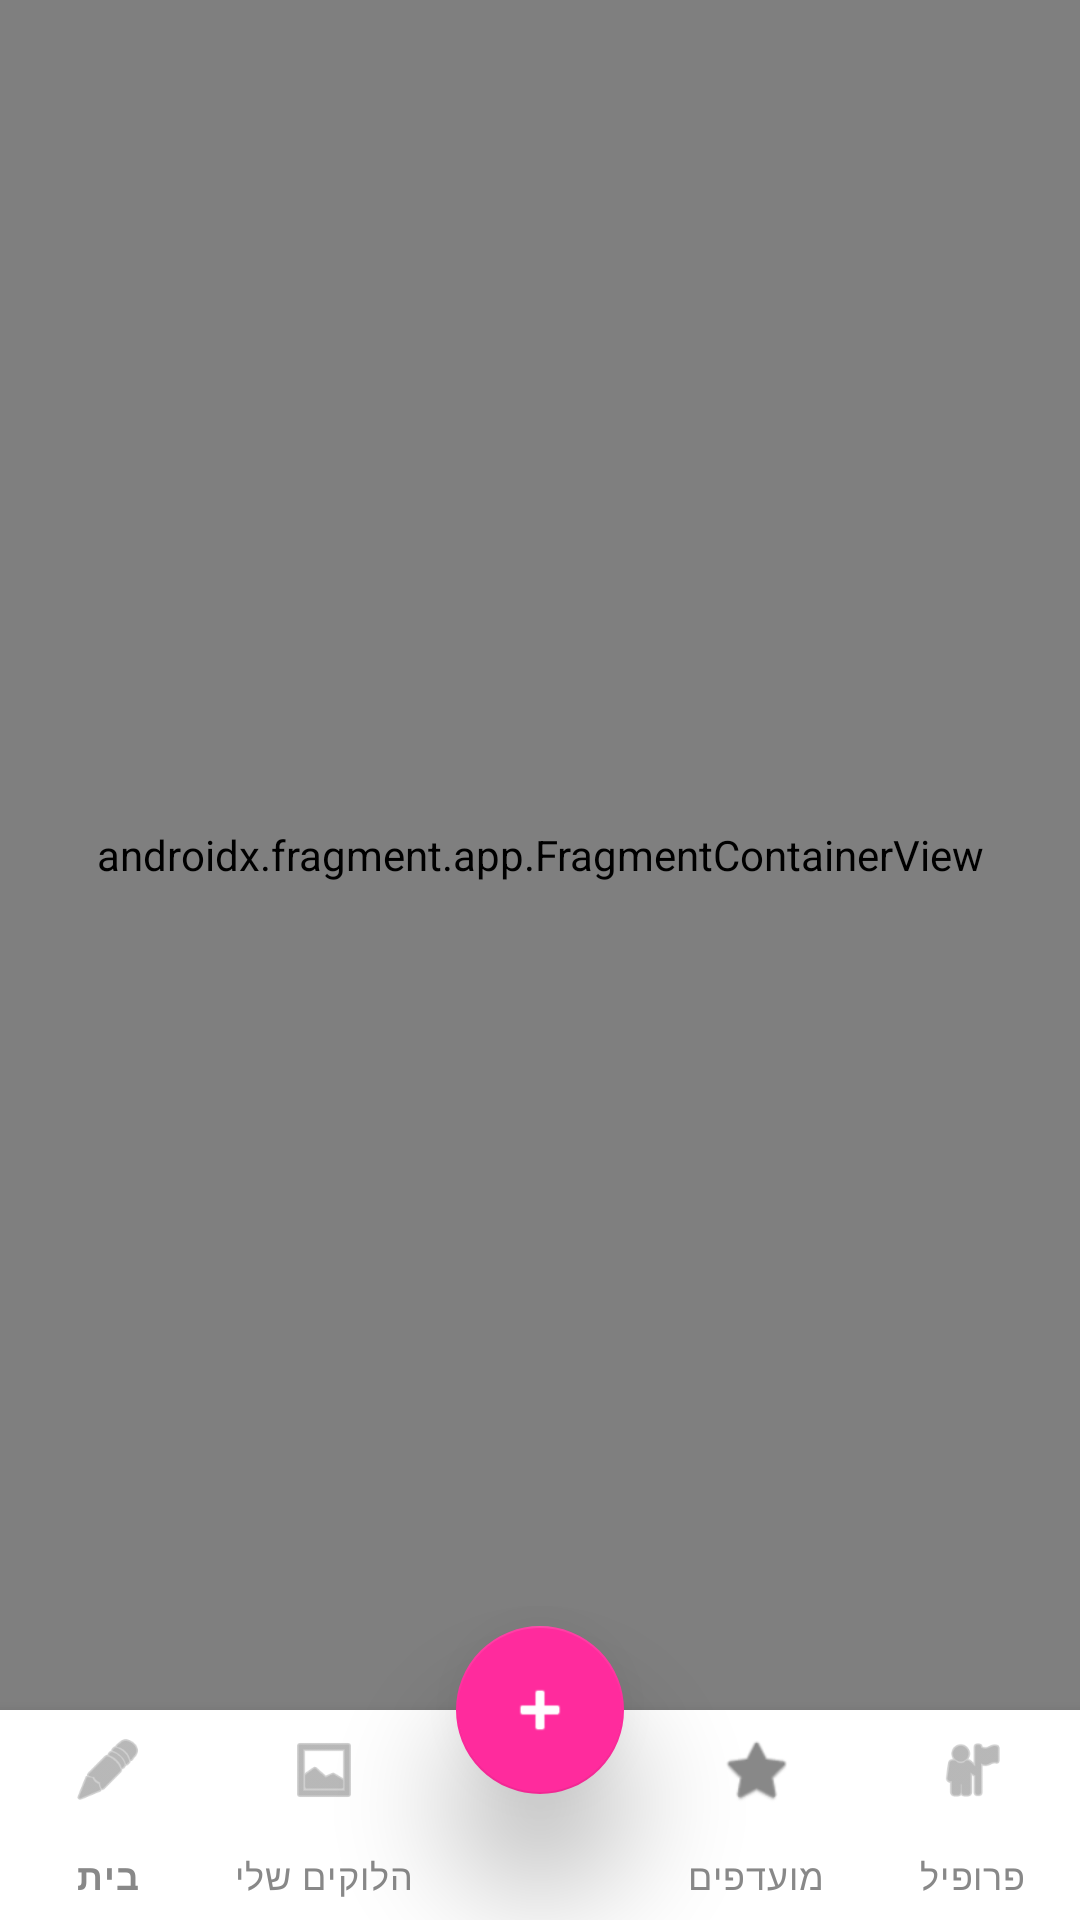

Screen size 1080×1920. Icon name, then its center in pixels as (x,y):
Add new look: (540,1710)
